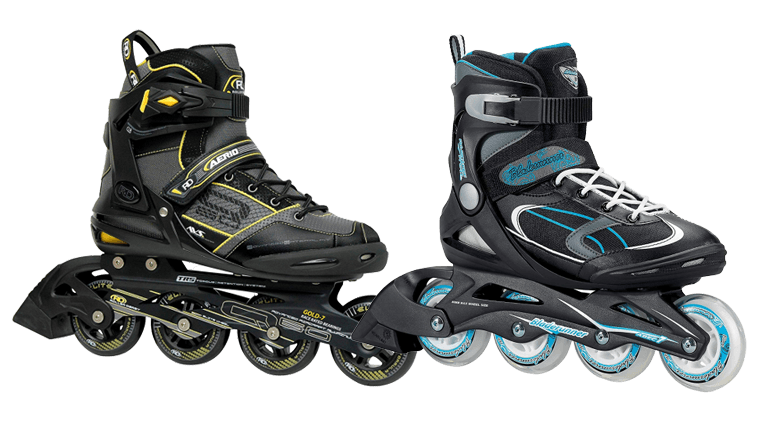roller_blade: (33, 42, 405, 384), (409, 43, 746, 395)
